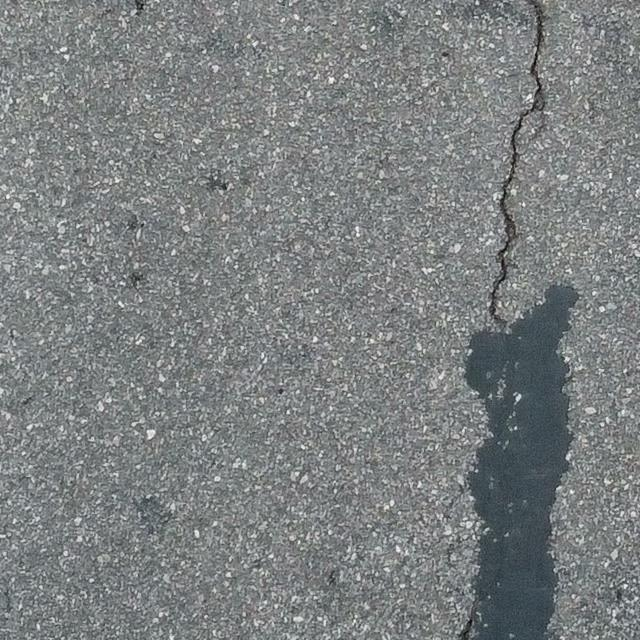LongitudinalCrack: (482, 1, 548, 326)
